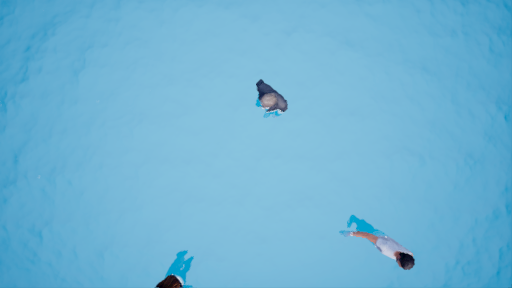person: (339, 216, 423, 270), (237, 65, 295, 123), (152, 242, 203, 288)
